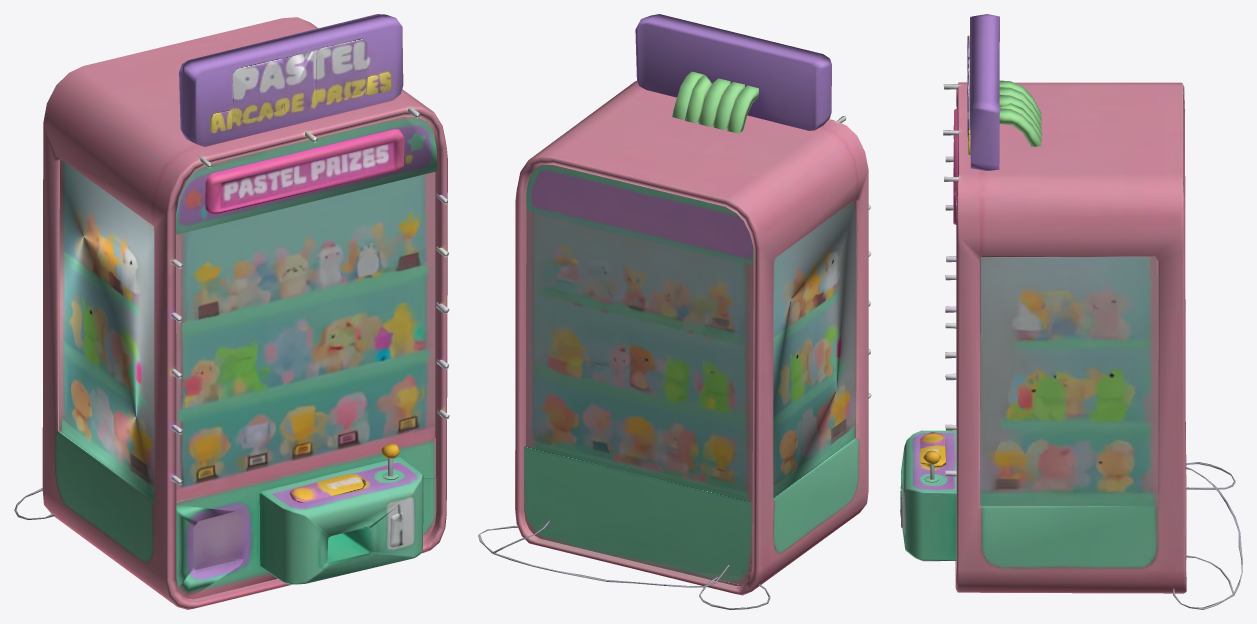
Rendered from arcade-prize-shelf.glb.
3 views of the same model, side by side, from view 1: azimuth 30°, elevation 25°; view 2: azimuth 150°, elevation 25°; view 3: azimuth 270°, elevation 25° (orthographic). The views are drawn at different scales.
Parts seen in each view (by area): view 1: geometry_0; view 2: geometry_0; view 3: geometry_0.
Part boxes in pixels (x1,y1,x2,y2): geometry_0: [14, 14, 449, 609]; geometry_0: [478, 14, 871, 609]; geometry_0: [900, 14, 1242, 609].
Size of the model in its own units: 0.6525 by 1 by 0.6483.
1 material, 1 textured.
